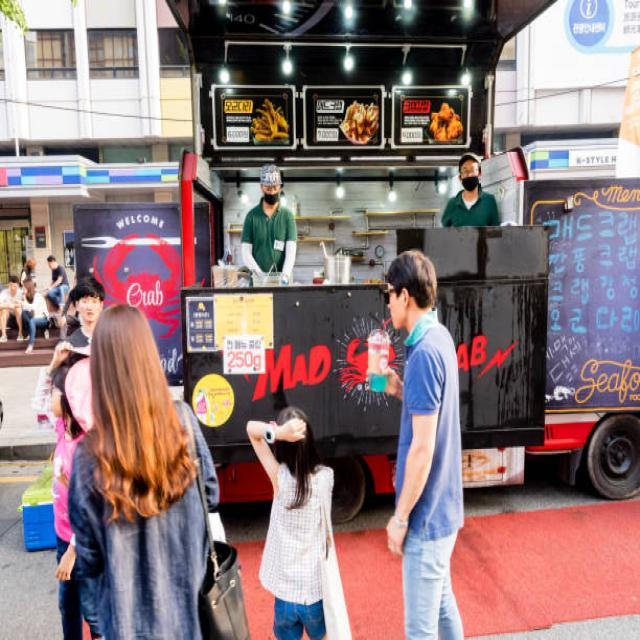Emperan: (153, 0, 579, 554)
